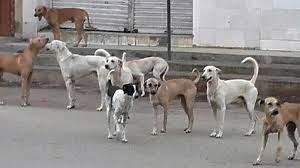normal_dogs: (46, 37, 112, 116), (202, 52, 262, 138), (144, 67, 201, 136), (255, 82, 300, 166), (1, 30, 48, 109), (100, 68, 144, 144), (31, 1, 99, 49), (105, 51, 168, 79)
